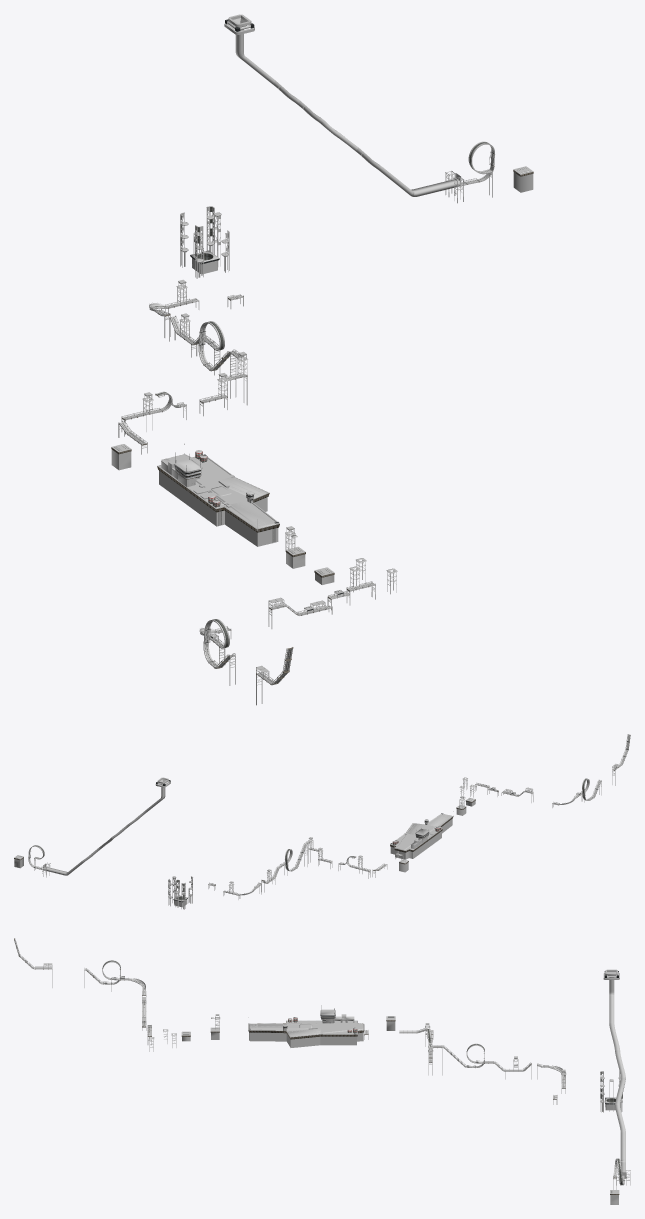
File: MHPretty.obj
The picture shows the model from 3 angles, top to bottom: view 1: azimuth 30°, elevation 25°; view 2: azimuth 150°, elevation 25°; view 3: azimuth 270°, elevation 25°; orthographic projection. The views are drawn at different scales.
Size of the model in its own units: 11142 by 3479 by 13299.
